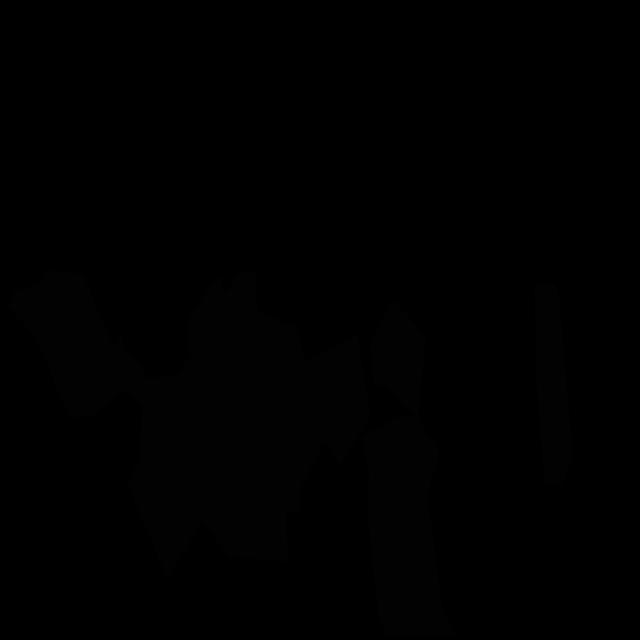cardboard: (126, 271, 370, 577), (362, 415, 456, 637), (7, 269, 145, 418), (534, 284, 573, 485), (370, 300, 426, 418)
